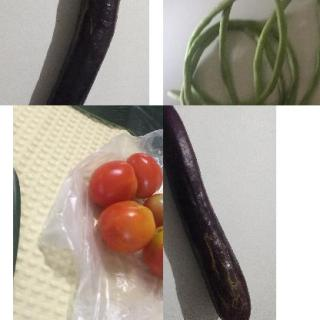Tomat: (74, 142, 163, 286)
